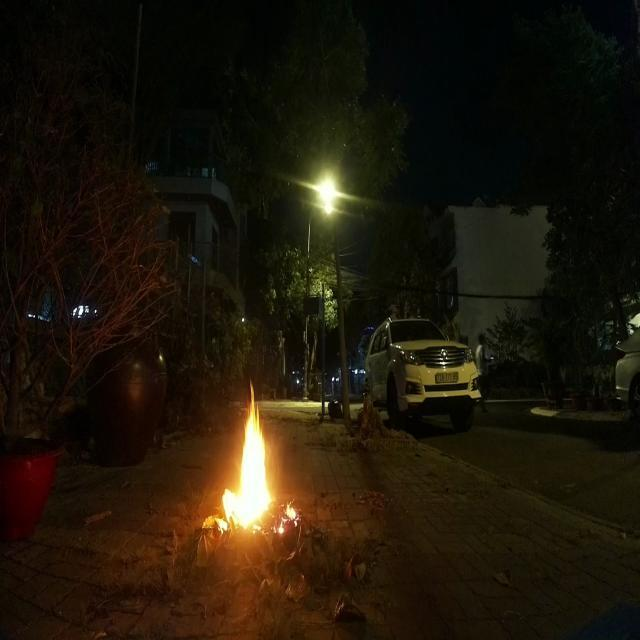Fire: (208, 371, 300, 543)
